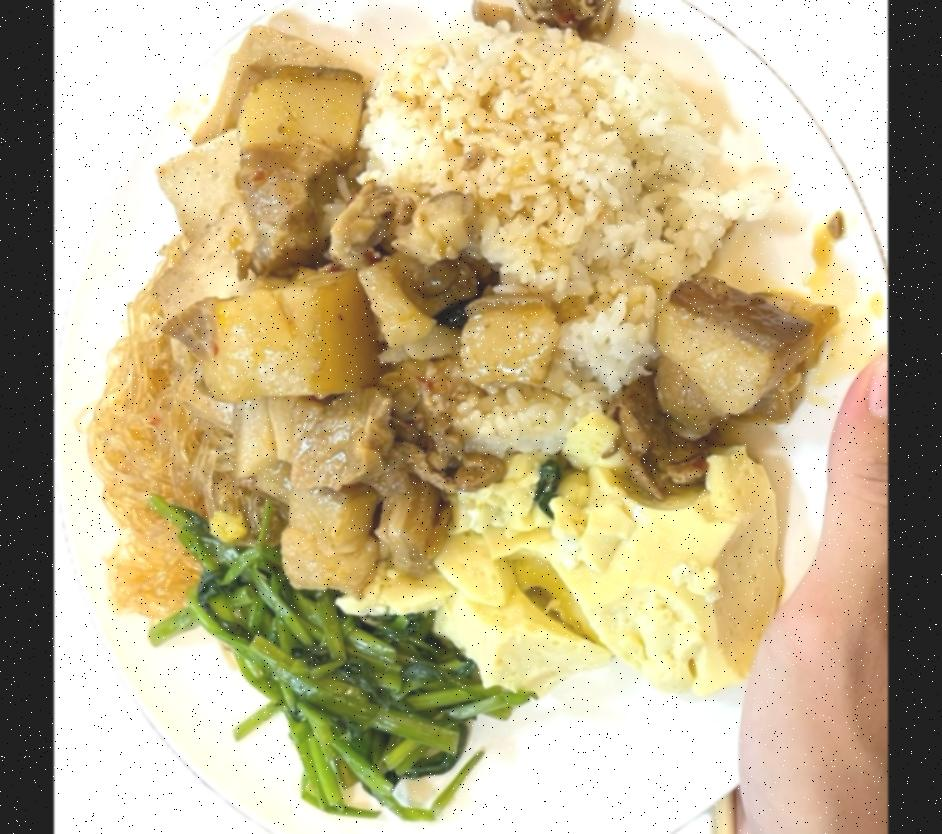big fried chicken leg: (60, 0, 888, 834)
big herbal chicken leg: (362, 34, 739, 451)
braised fish fillet: (338, 439, 779, 702), (160, 502, 521, 822), (94, 334, 240, 615), (143, 134, 256, 429)
braised pork: (228, 60, 834, 590)
